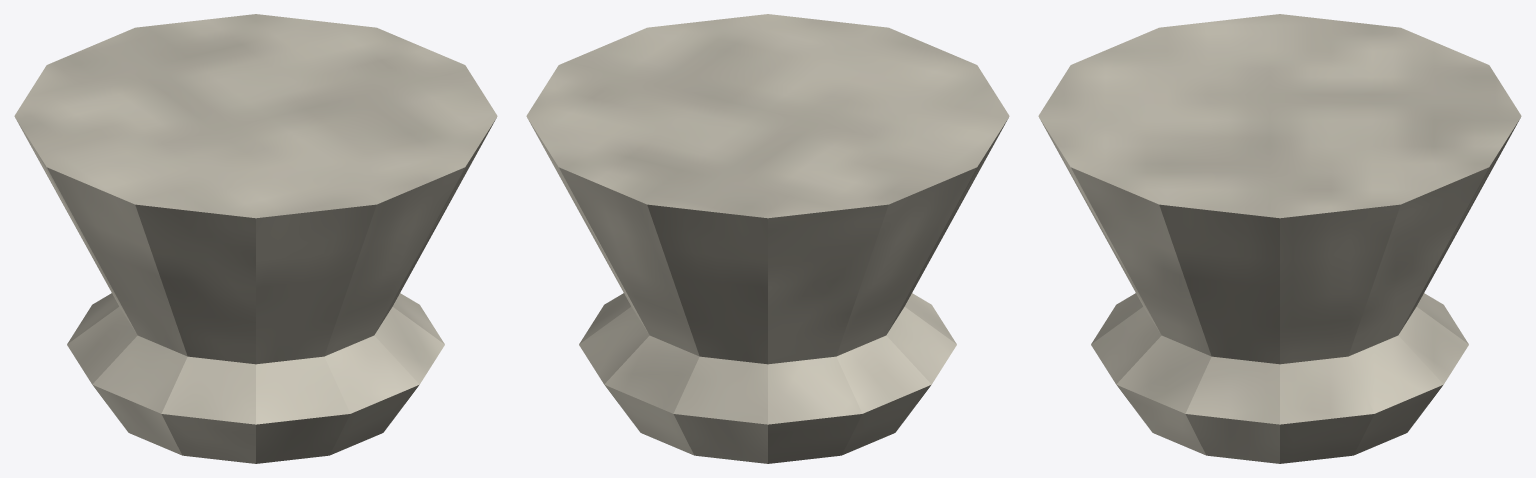
The model's file is wine_cup.fbx.
The picture shows the model from 3 angles, left to right: view 1: azimuth 30°, elevation 25°; view 2: azimuth 150°, elevation 25°; view 3: azimuth 270°, elevation 25°; orthographic projection.
Parts seen in each view (by area): view 1: wine_cup; view 2: wine_cup; view 3: wine_cup.
Part boxes in pixels (left/top/right/bottom): wine_cup: left=14, top=14, right=497, bottom=463; wine_cup: left=526, top=14, right=1009, bottom=463; wine_cup: left=1038, top=14, right=1521, bottom=463.
Size of the model in its own units: 4.6 by 3 by 4.6.
